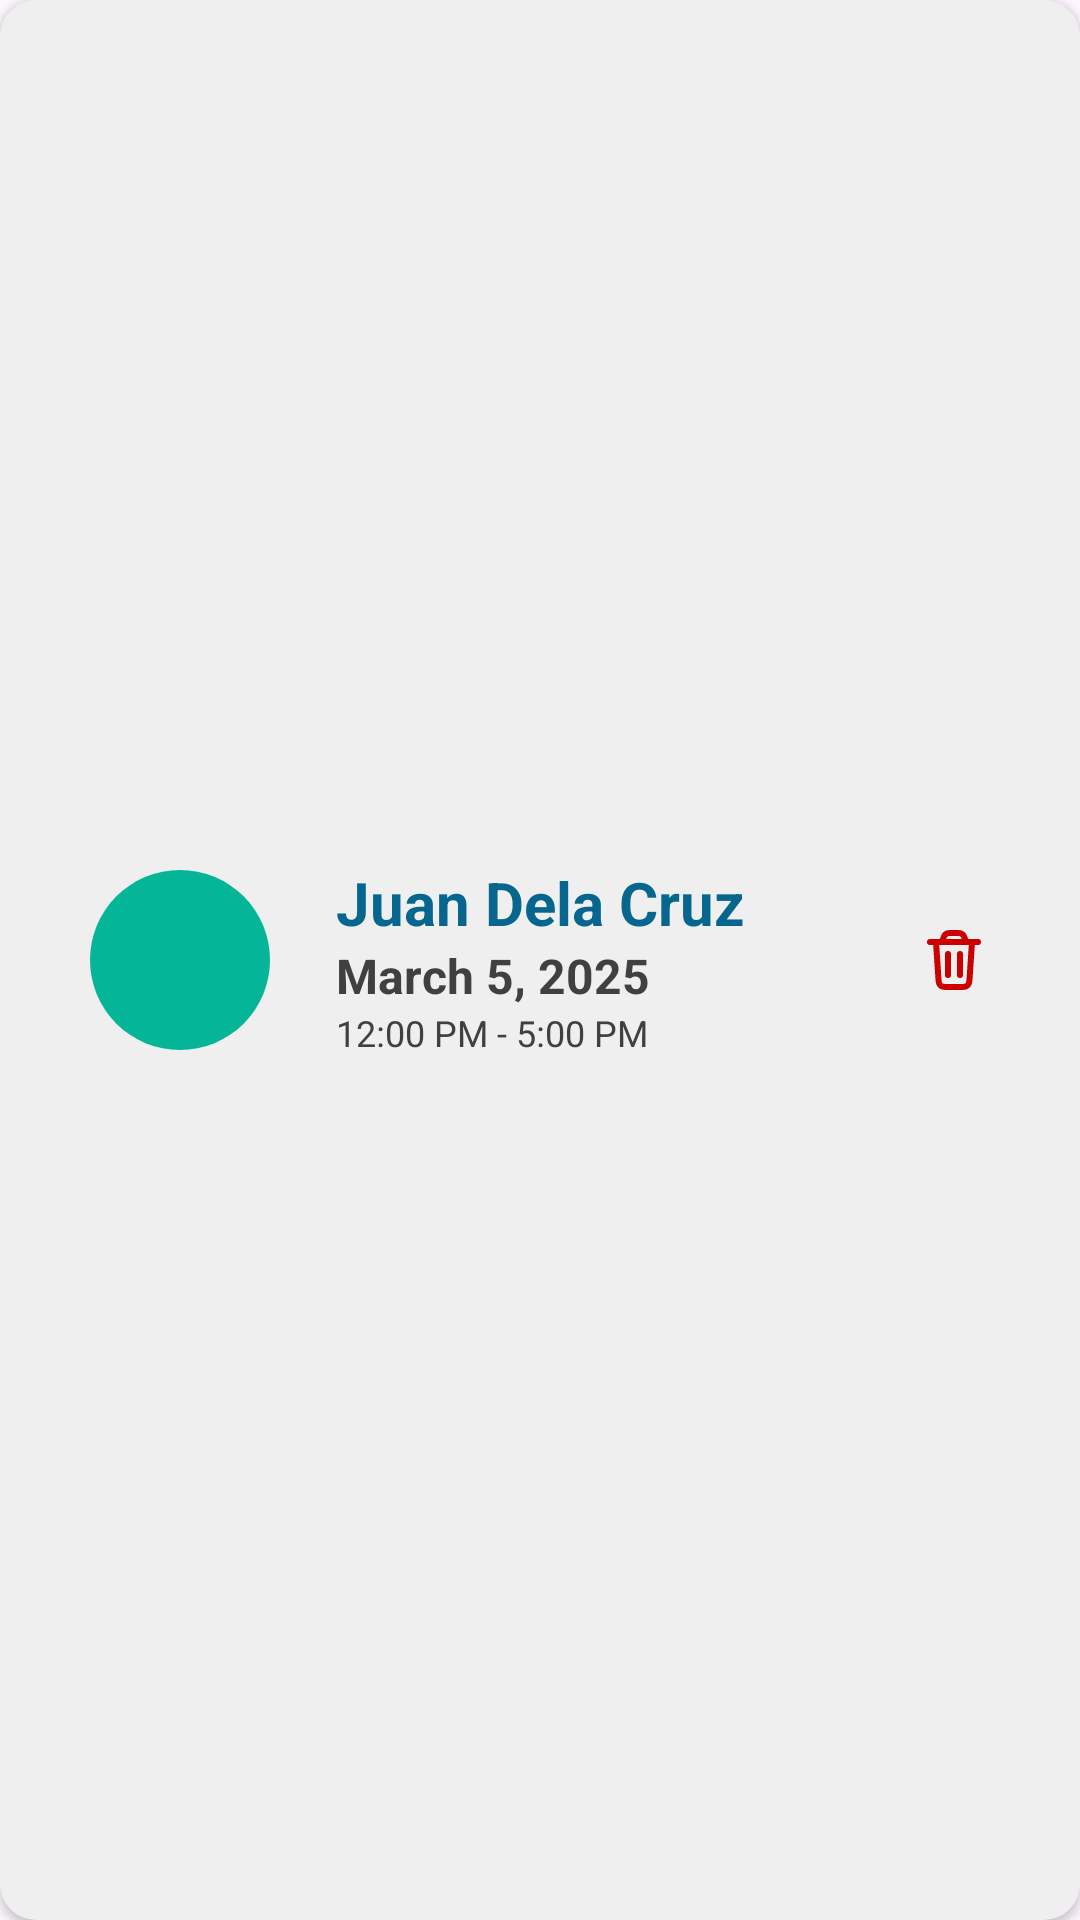

Locate icon controls on the screen. Image size 1080px×1920px, boxes as {"left": x1, "top": y1, "right": x2, "bottom": y2}.
Delete: {"left": 927, "top": 930, "right": 981, "bottom": 990}
